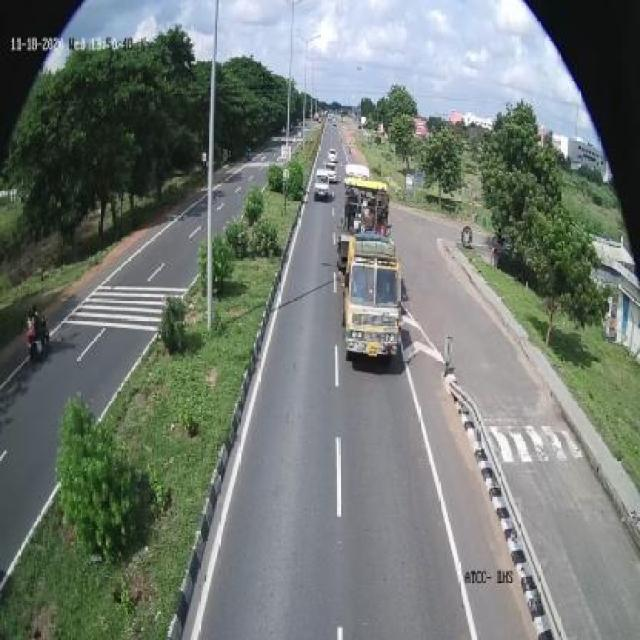car: (311, 163, 335, 206)
